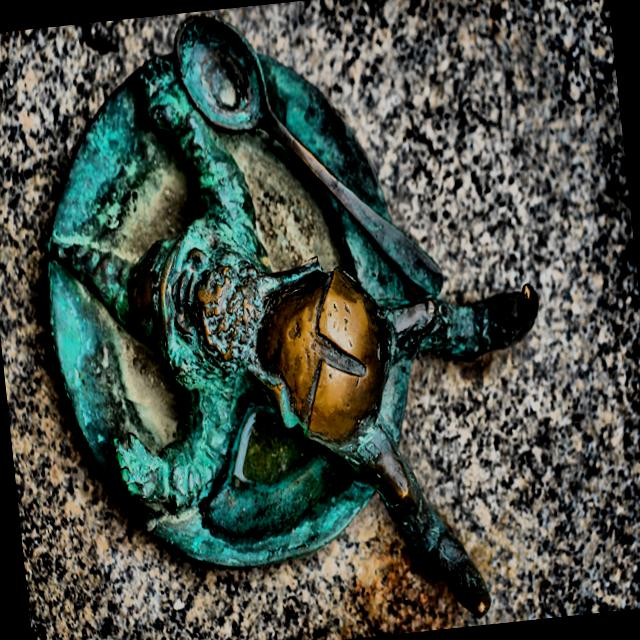Obiezysmak: (40, 17, 541, 618)
